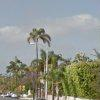Palm tree: (25, 17, 48, 71)
